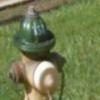a fire hydrant: (10, 15, 65, 100)
